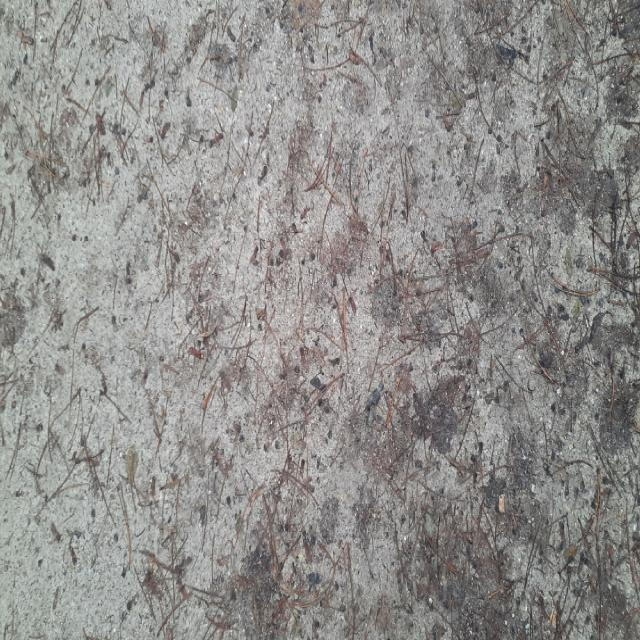white-sand: (0, 0, 639, 638)
